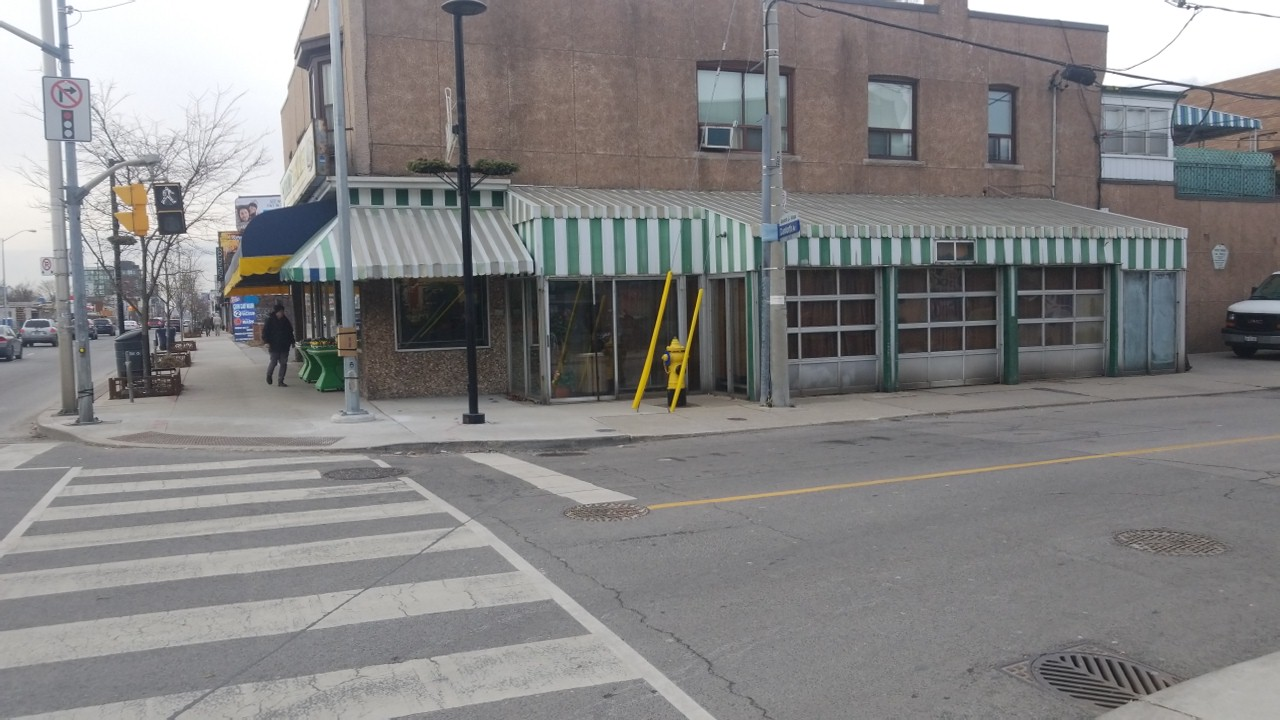light: (150, 177, 191, 233)
